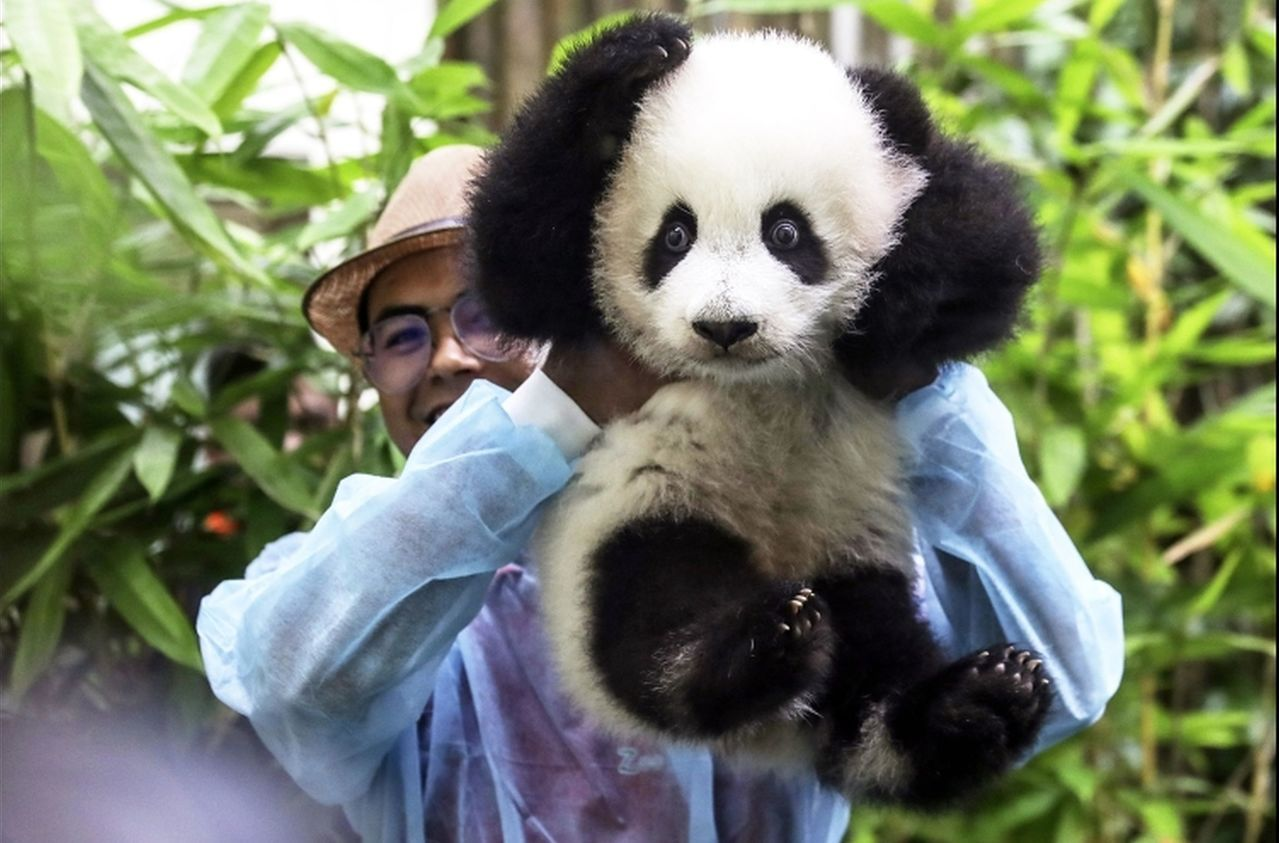panda: (455, 11, 1061, 820)
